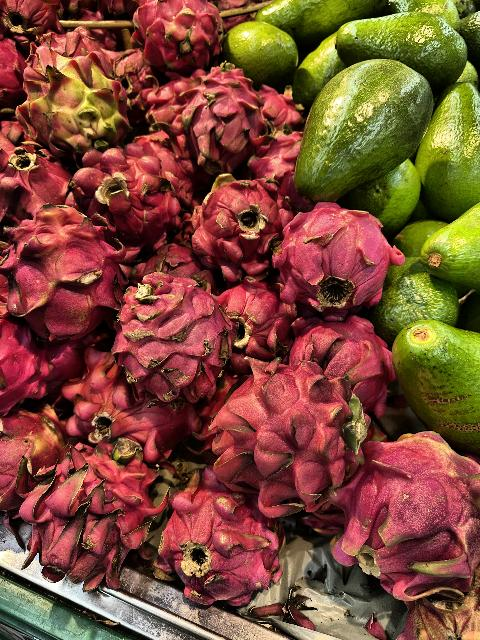buah-naga-belum-matang: (350, 429, 480, 601), (5, 202, 121, 336), (17, 40, 137, 156), (0, 406, 70, 516)
buah-naga-matang: (197, 350, 370, 498), (100, 270, 250, 410), (18, 448, 154, 596), (156, 471, 282, 611), (280, 206, 408, 334), (69, 142, 195, 255), (156, 60, 268, 170), (65, 354, 180, 458), (281, 308, 400, 402), (185, 170, 291, 274), (0, 140, 78, 230), (125, 0, 229, 66), (214, 278, 290, 338)
